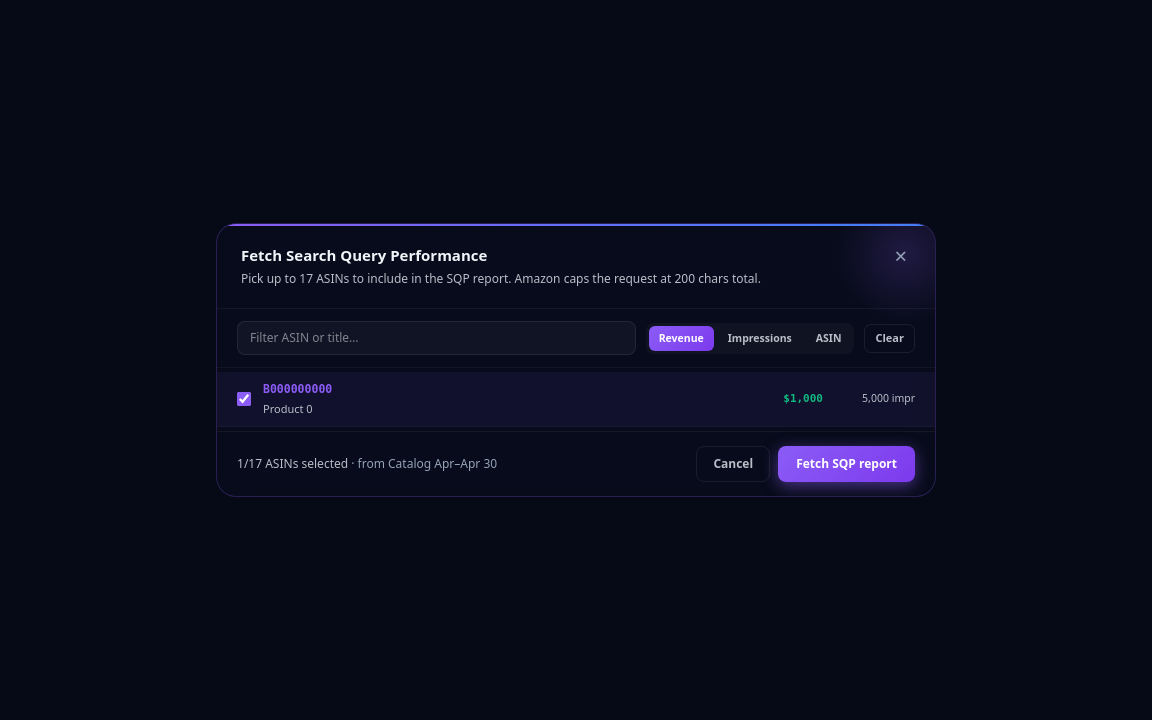
SqpFetchModal — fetch submission › surfaces server errors from a failed fetch
Click the button "Fetch SQP report" at (847, 464), box [778, 446, 915, 482]
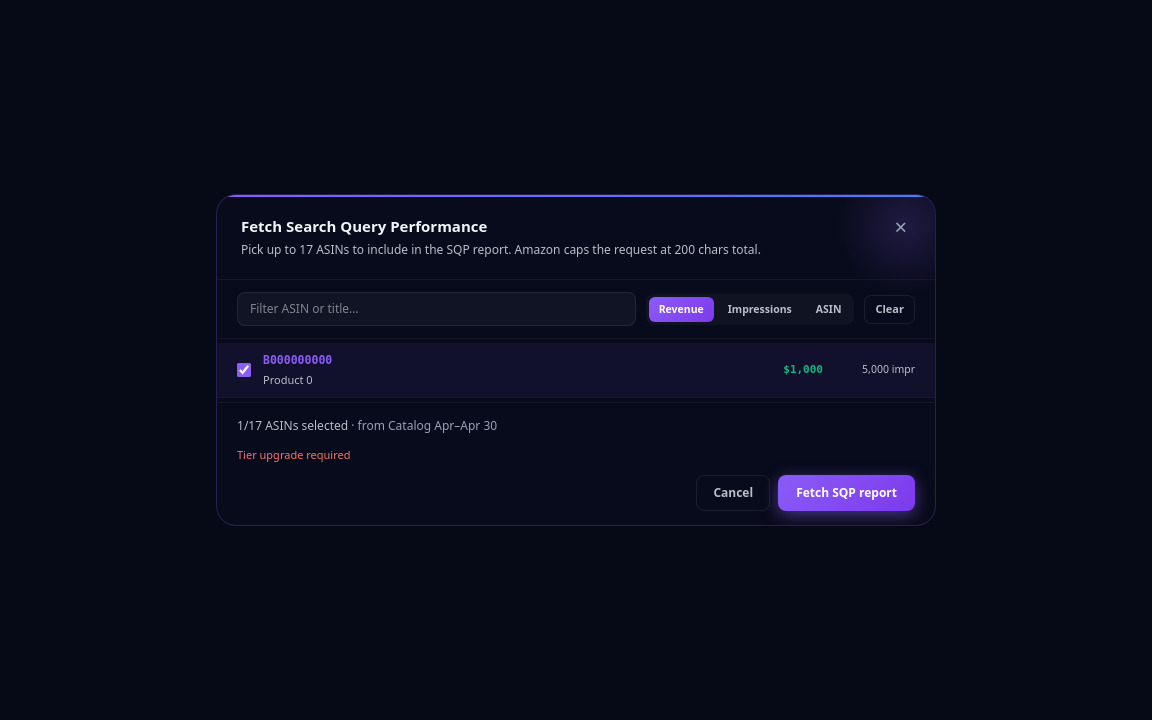
Now the text "Tier upgrade required" is shown, box [237, 447, 350, 462]
